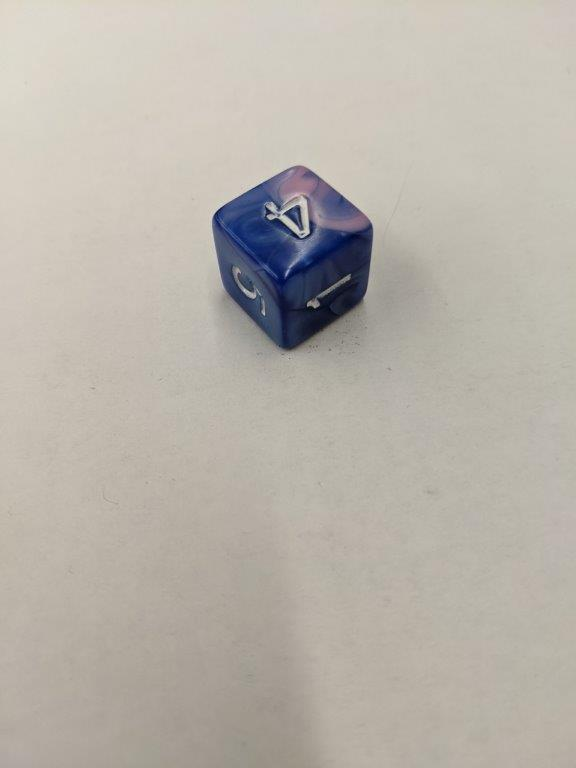d6-4: (211, 162, 373, 349)
